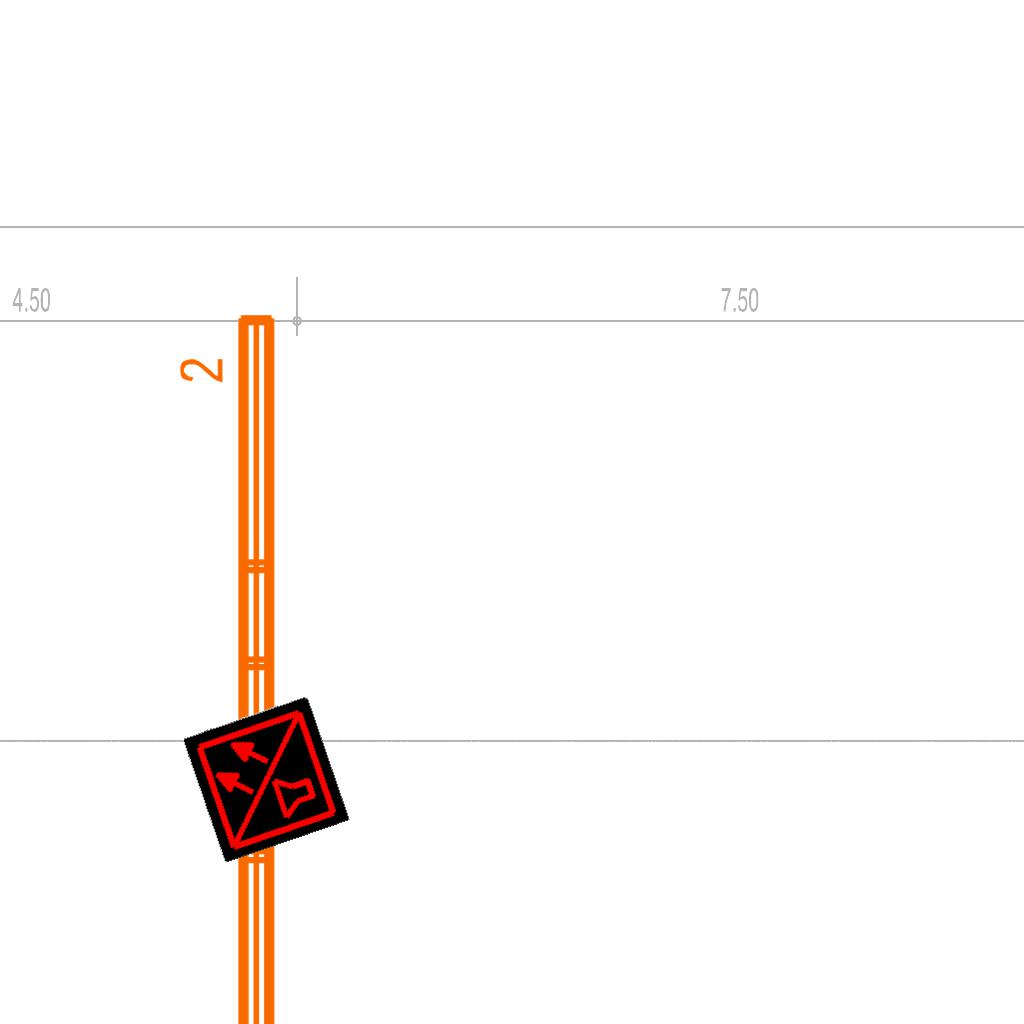Ambulanz_Pendelleuchte_LED: (175, 306, 287, 1024)
OKW_Multisensormelder_(Kombination_optischer_Rauch-Kahlenmonoxid_Waerme-Melder): (182, 695, 350, 863)
